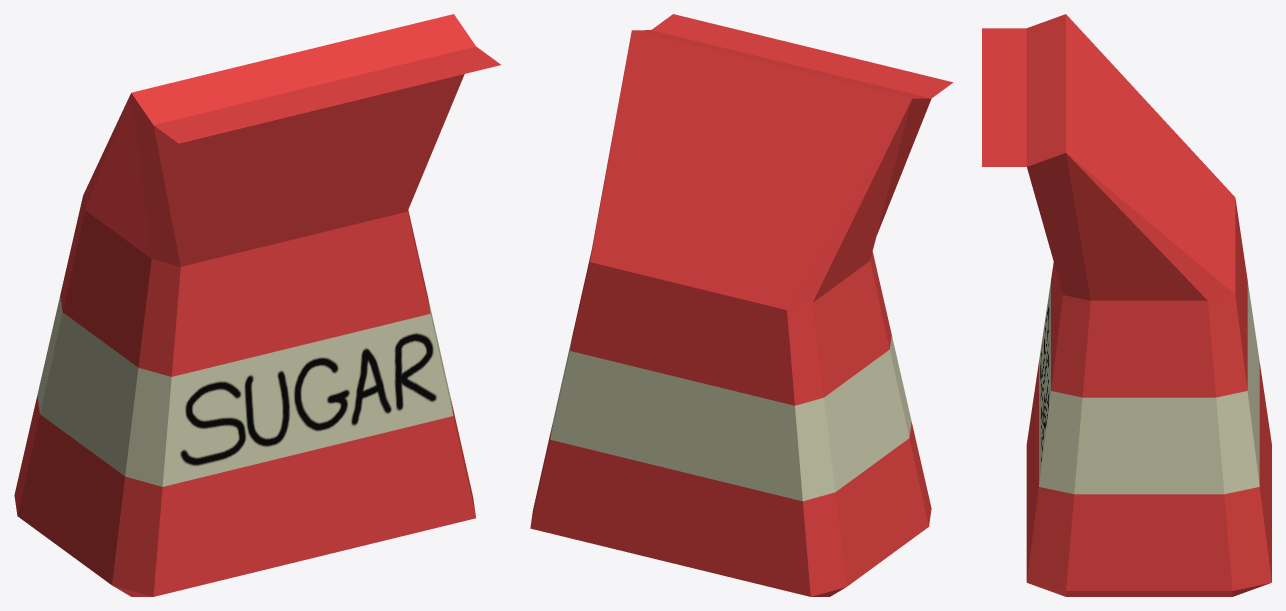
Rendered from SugarBag.gltf.
The picture shows the model from 3 angles, left to right: view 1: azimuth 30°, elevation 25°; view 2: azimuth 150°, elevation 25°; view 3: azimuth 270°, elevation 25°; orthographic projection. The views are drawn at different scales.
Visible parts, largest first — view 1: Sugar; view 2: Sugar; view 3: Sugar.
Boxes of the visible parts, box(x1,y1,x2,y2) form: Sugar: box(14, 14, 500, 596); Sugar: box(530, 14, 953, 596); Sugar: box(982, 14, 1271, 596).
Bounding box in the file's own units: 0.15 × 0.2 × 0.1182.
Materials: 2 (1 with a texture image).
